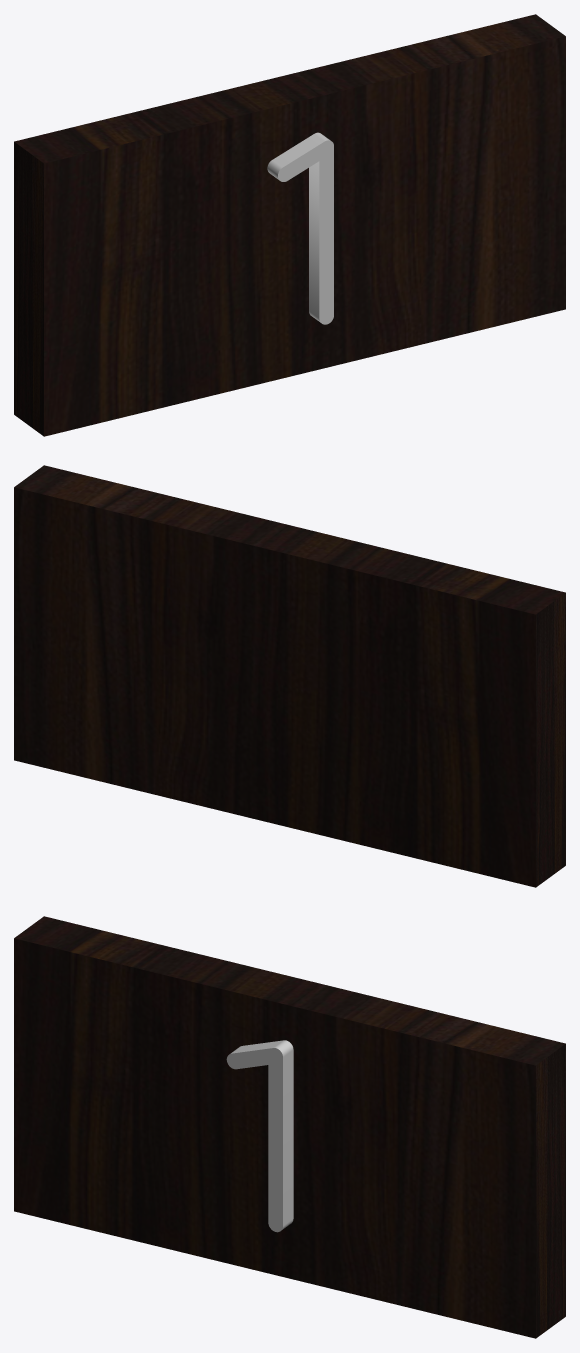
The picture shows the model from 3 angles, top to bottom: view 1: azimuth 30°, elevation 25°; view 2: azimuth 150°, elevation 25°; view 3: azimuth 330°, elevation 25°; orthographic projection.
Parts seen in each view (by area): view 1: Base, Text; view 2: Base; view 3: Base, Text.
Part boxes in pixels (x1=…): Base: x1=14, y1=14, x2=565, y2=436; Text: x1=267, y1=132, x2=333, y2=324; Base: x1=14, y1=465, x2=565, y2=887; Base: x1=14, y1=916, x2=565, y2=1338; Text: x1=226, y1=1040, x2=293, y2=1232.
Bounding box in the file's own units: 200 × 100 × 26.96.
